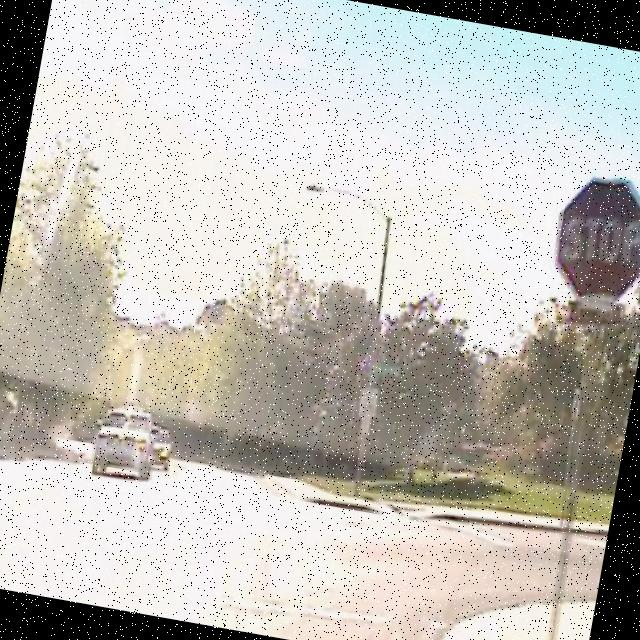Stop: (540, 165, 640, 309)
